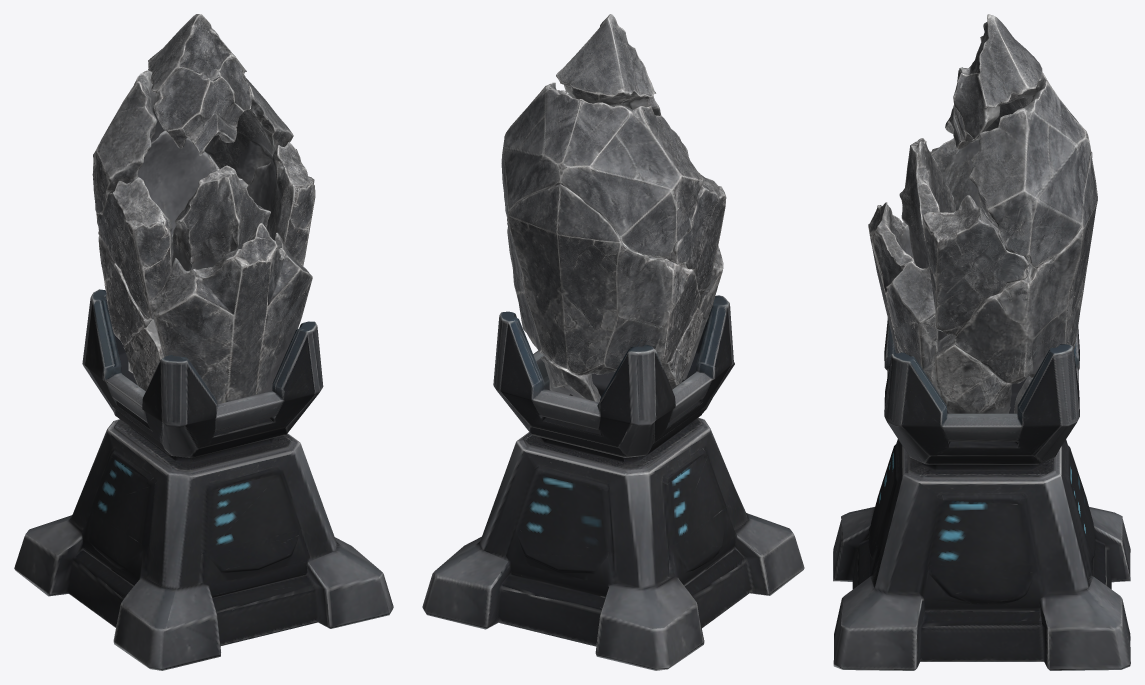
The model's file is Power_crystal_broken.glb.
3 renders of one model, left to right at view 1: azimuth 30°, elevation 25°; view 2: azimuth 150°, elevation 25°; view 3: azimuth 270°, elevation 25°, orthographic. The views are drawn at different scales.
Bounding box in the file's own units: 0.4272 × 0.9507 × 0.4316.
Materials: 1 (1 with a texture image).
